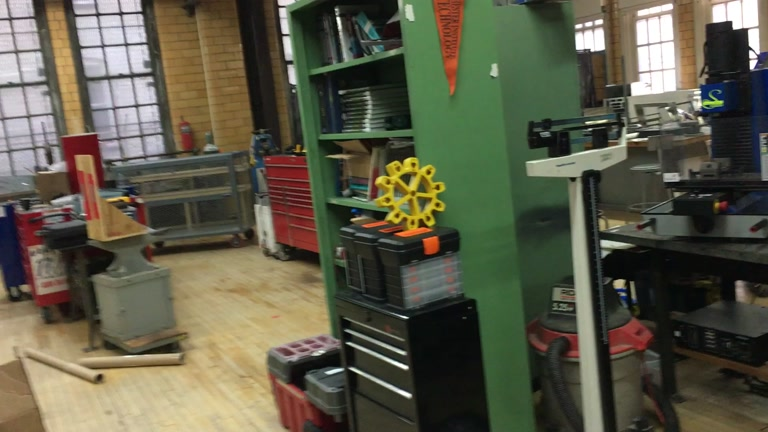gear: (376, 159, 447, 229)
